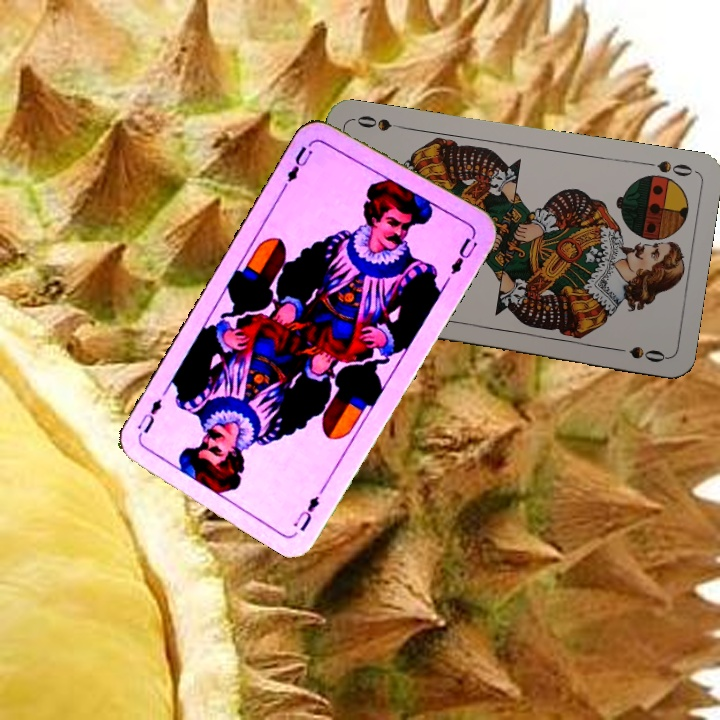EU: (280, 141, 316, 189), (289, 491, 322, 535)
SO: (638, 156, 696, 180)
